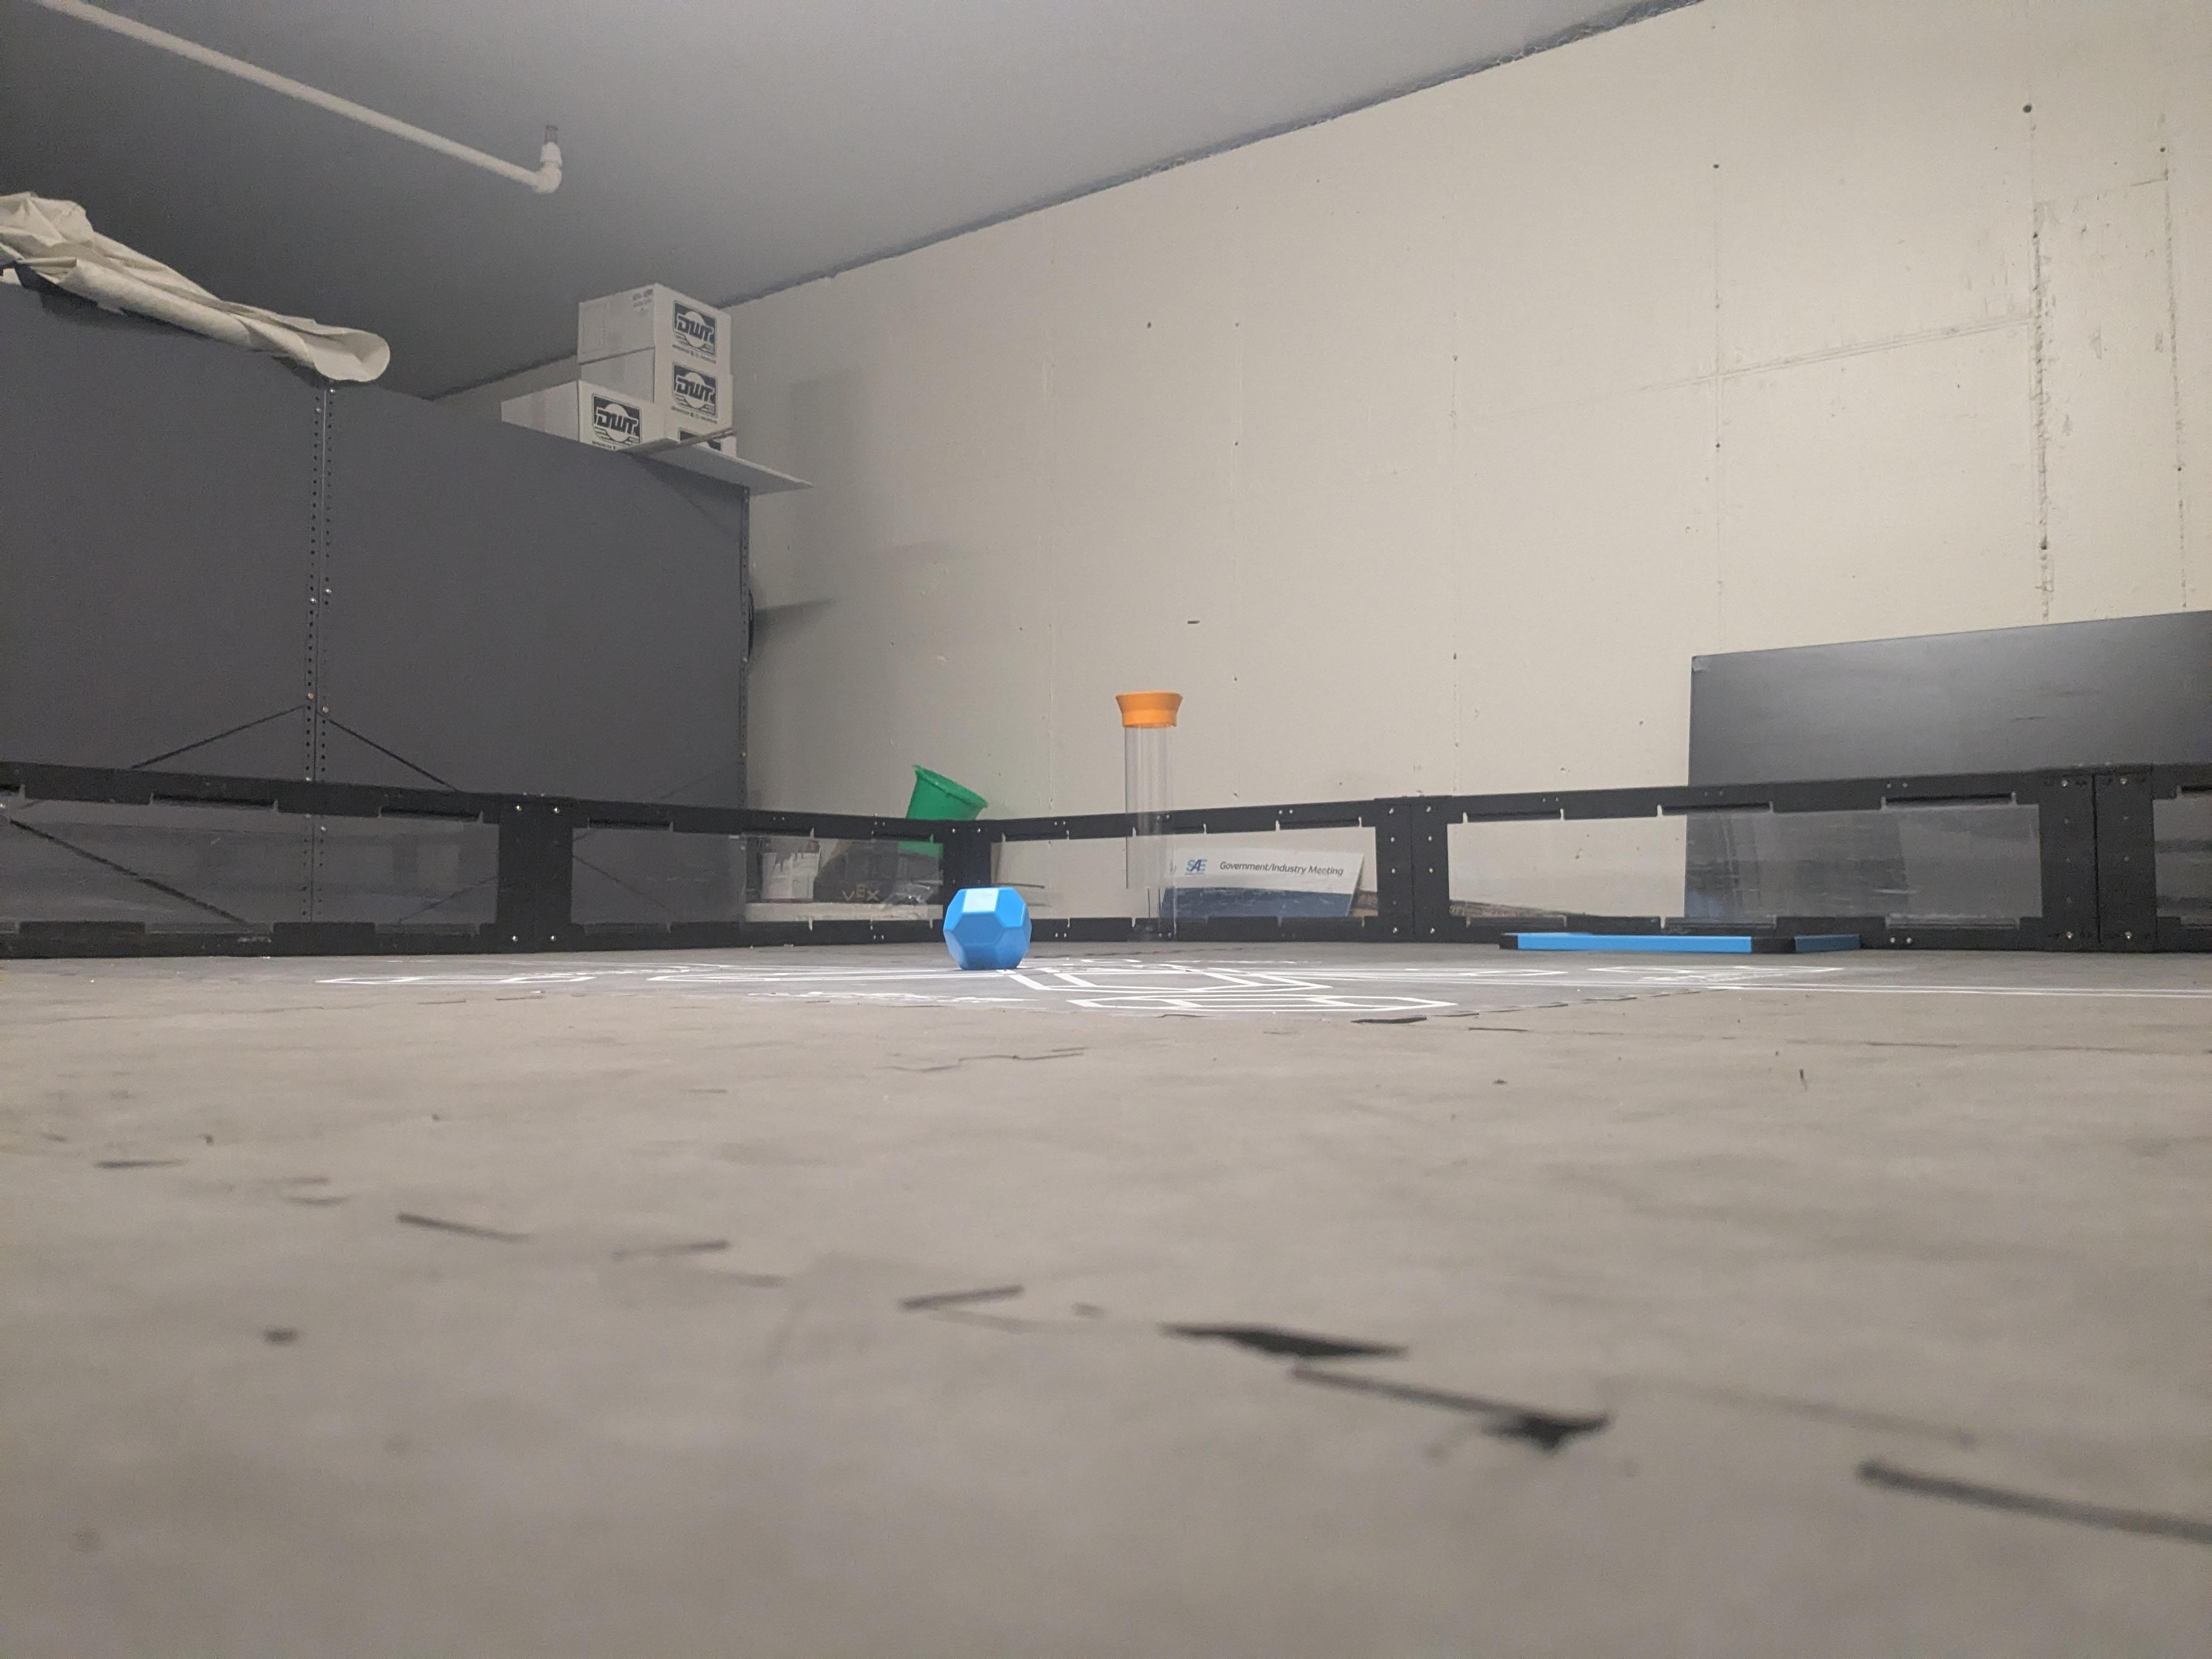Vex-Pieces-BLUE: (942, 889, 1033, 972)
